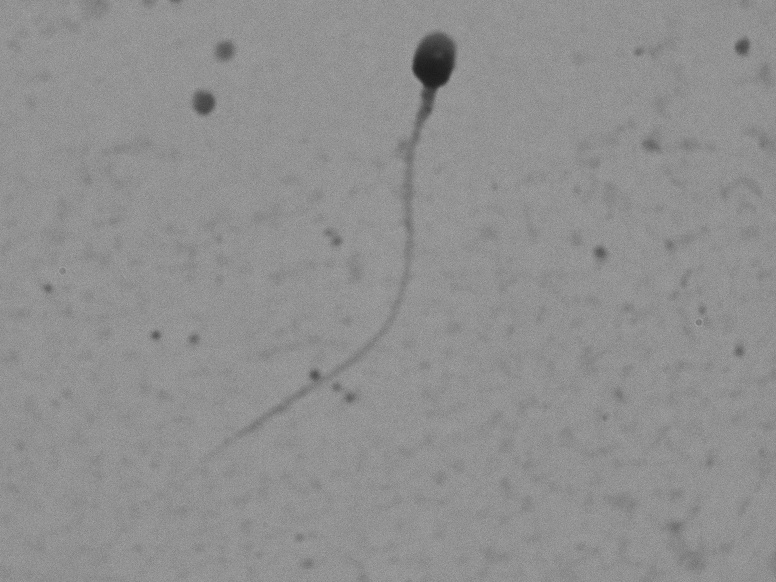Abnormal: (241, 24, 544, 481)
